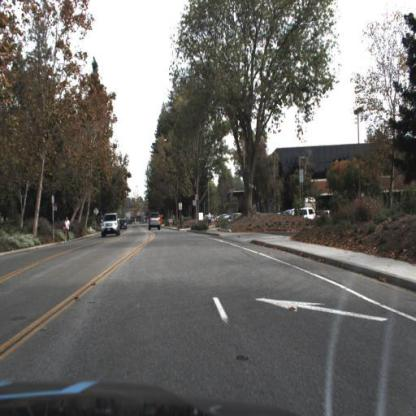biker: (64, 216, 72, 243), (173, 211, 178, 229)
car: (100, 213, 120, 239), (148, 210, 164, 234), (294, 207, 317, 223), (119, 220, 128, 231)
pedestrian: (208, 210, 212, 231)
